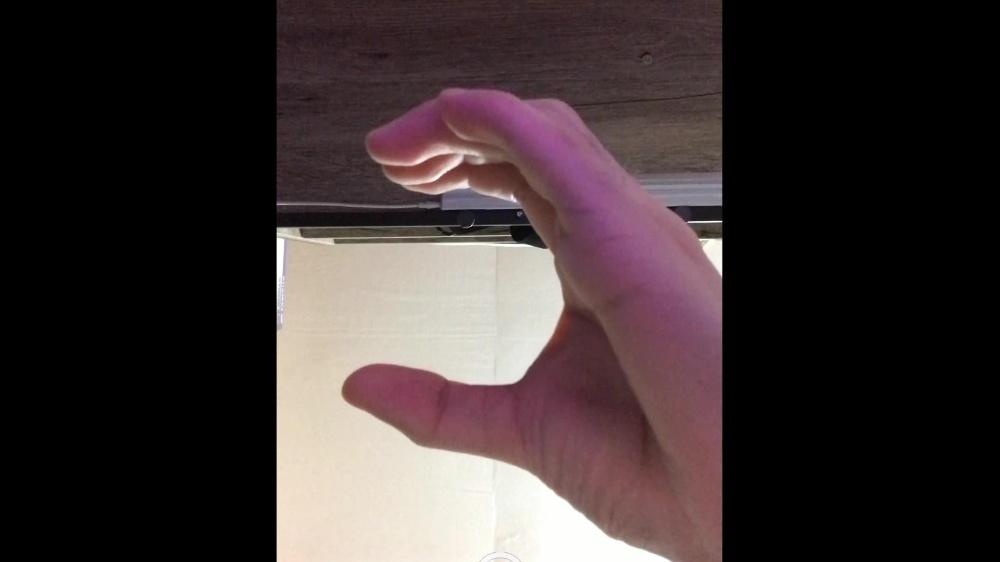c: (339, 82, 725, 542)
